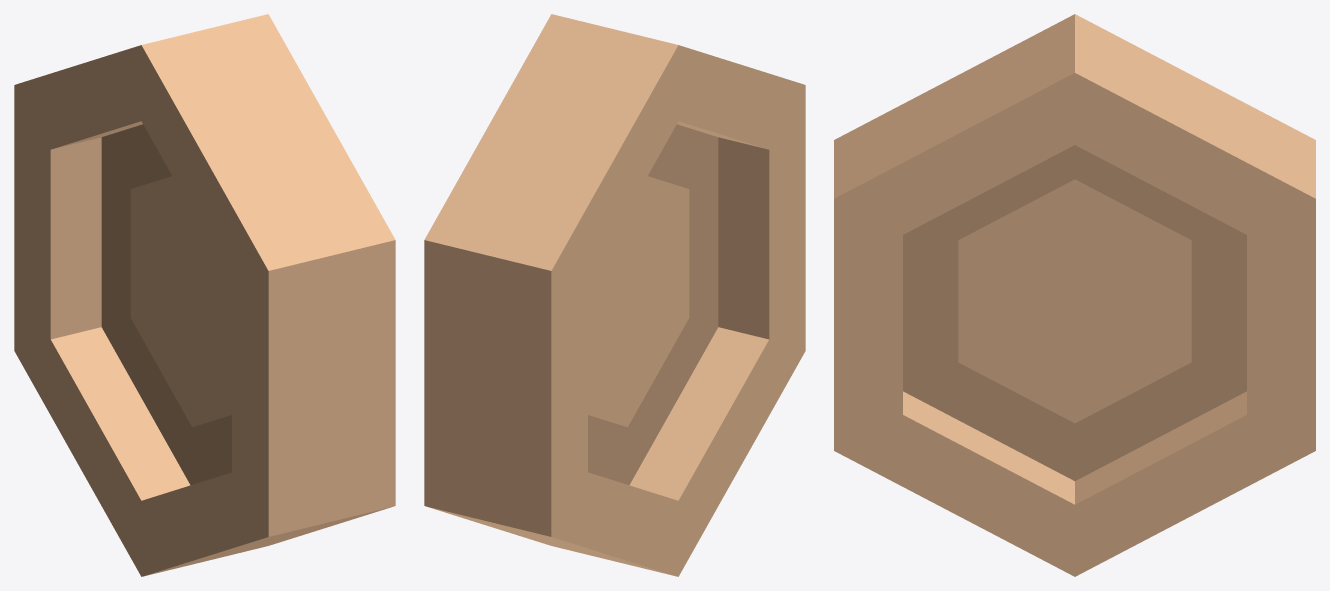
Rendered from coinBronze.glb.
The picture shows the model from 3 angles, left to right: view 1: azimuth 30°, elevation 25°; view 2: azimuth 150°, elevation 25°; view 3: azimuth 270°, elevation 25°; orthographic projection. The views are drawn at different scales.
Visible parts, largest first — view 1: coin; view 2: coin; view 3: coin.
Part boxes in pixels (left/top/right/bottom): coin: left=14, top=14, right=395, bottom=576; coin: left=424, top=14, right=805, bottom=576; coin: left=834, top=14, right=1315, bottom=576.
Bounding box in the file's own units: 0.1 × 0.4 × 0.3464.
